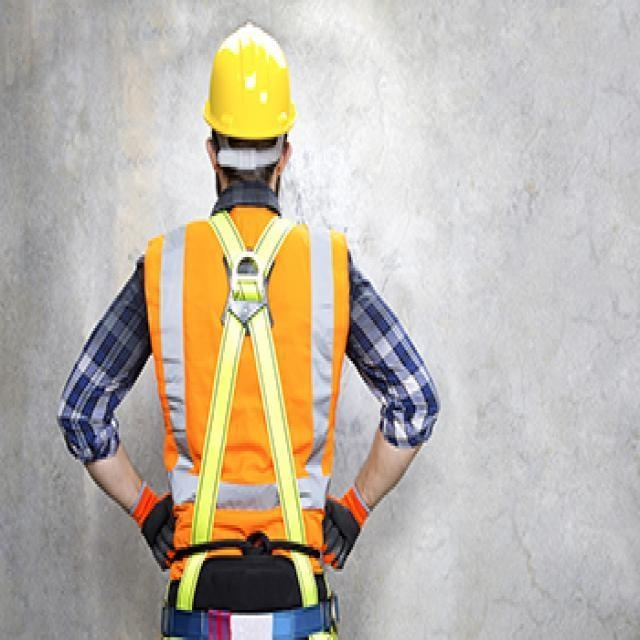Arnes_seguridad: (196, 226, 316, 566)
